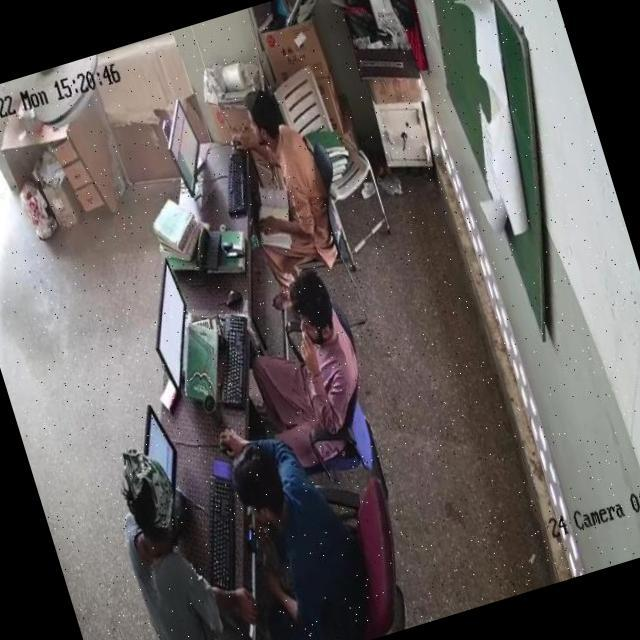person: (204, 412, 372, 639), (101, 435, 237, 640), (239, 267, 366, 451), (230, 78, 336, 257)
